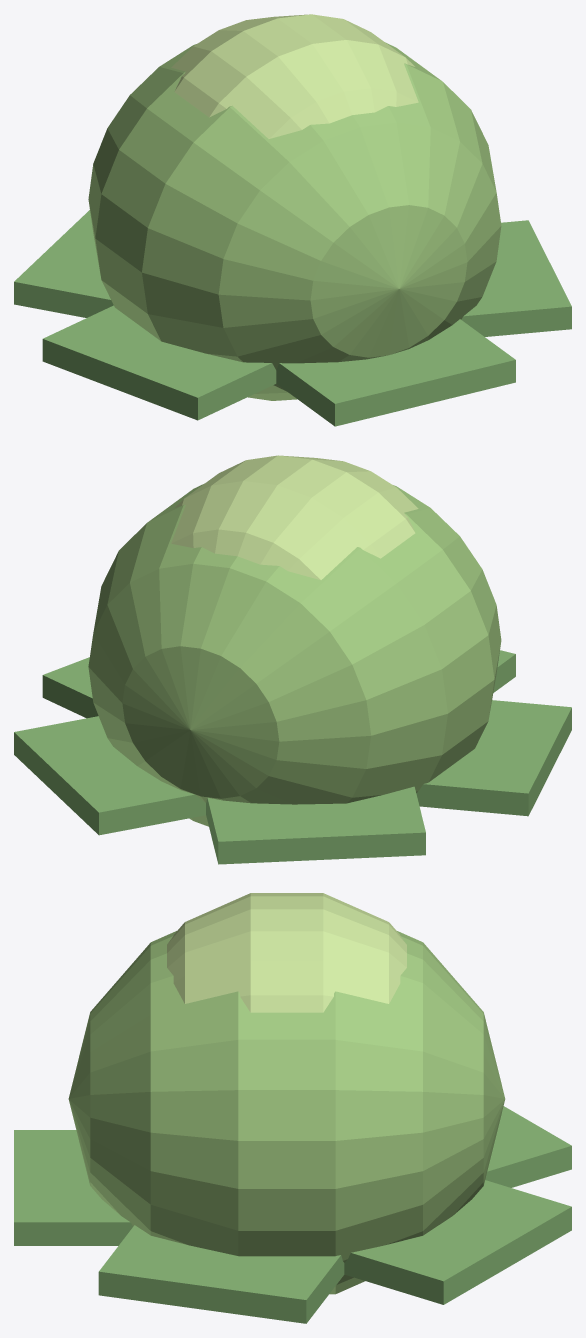
File: item_cabbage.glb
3 views of the same model, one above another, from view 1: azimuth 30°, elevation 25°; view 2: azimuth 150°, elevation 25°; view 3: azimuth 270°, elevation 25° (orthographic). The views are drawn at different scales.
Parts seen in each view (by area): view 1: leaf, leaf_dark, leaf_light; view 2: leaf, leaf_dark, leaf_light; view 3: leaf, leaf_dark, leaf_light.
Part boxes in pixels (bbox=[...]): leaf: bbox=[88, 42, 501, 400]; leaf_dark: bbox=[14, 210, 571, 426]; leaf_light: bbox=[171, 14, 418, 138]; leaf: bbox=[88, 483, 501, 826]; leaf_dark: bbox=[14, 650, 571, 864]; leaf_light: bbox=[171, 455, 418, 580]; leaf: bbox=[68, 931, 505, 1294]; leaf_dark: bbox=[14, 1106, 571, 1323]; leaf_light: bbox=[167, 893, 406, 1012].
Bounding box in the file's own units: 0.2687 × 0.1836 × 0.2555.
